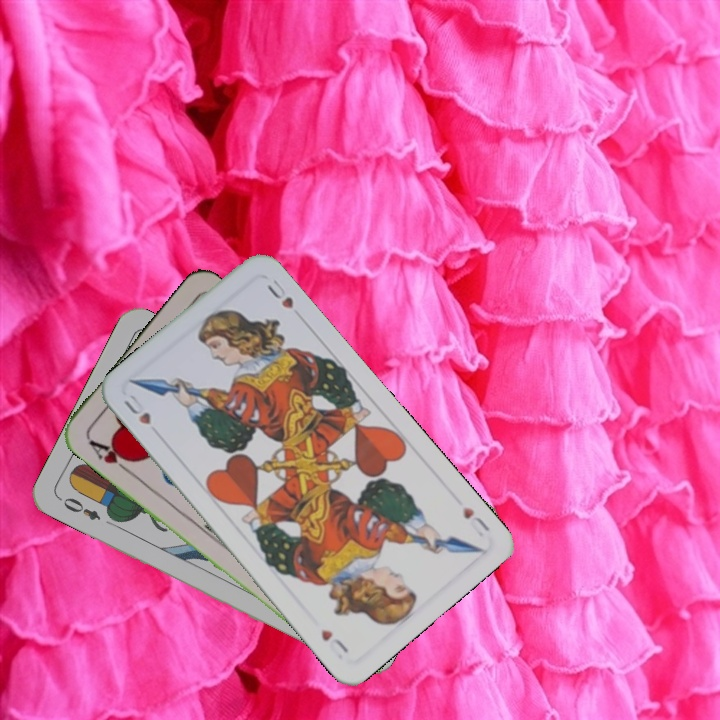EO: (59, 493, 104, 523)
HA: (84, 435, 137, 477)
HU: (120, 390, 154, 428), (458, 502, 493, 534)
